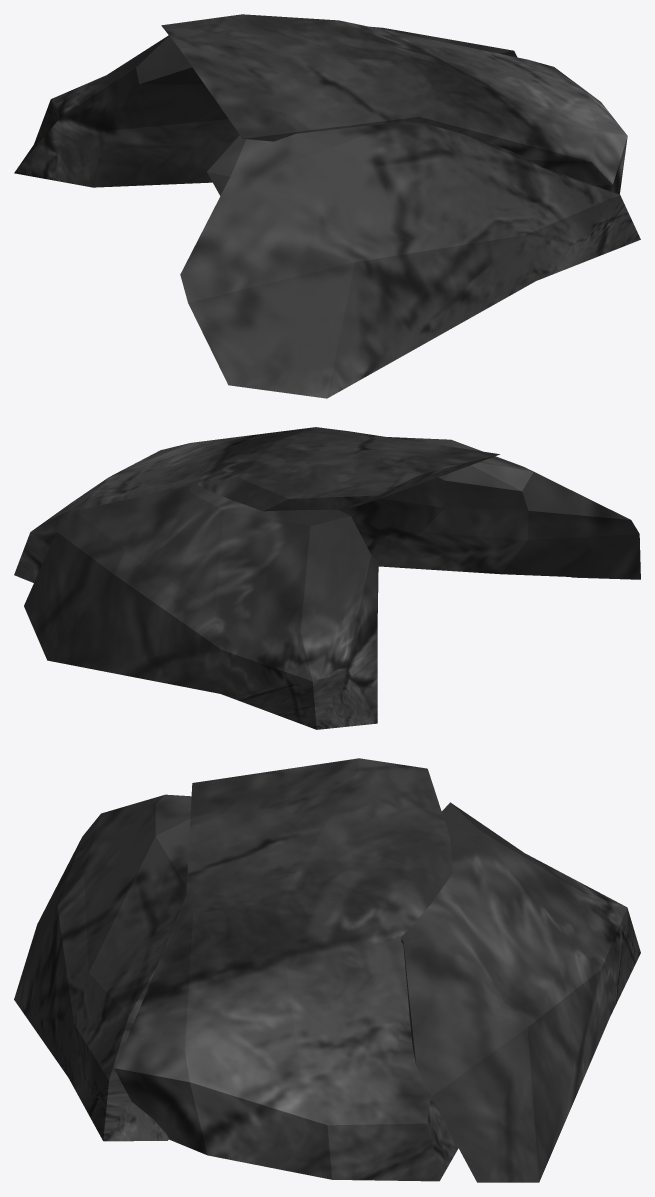
File: den_unused.fbx
The picture shows the model from 3 angles, top to bottom: view 1: azimuth 30°, elevation 25°; view 2: azimuth 150°, elevation 25°; view 3: azimuth 270°, elevation 25°; orthographic projection. The views are drawn at different scales.
Parts seen in each view (by area): view 1: pSphere19; view 2: pSphere19; view 3: pSphere19.
Part boxes in pixels (left/top/right/bottom): pSphere19: left=14, top=14, right=640, bottom=398; pSphere19: left=14, top=427, right=640, bottom=729; pSphere19: left=14, top=758, right=640, bottom=1182.
Bounding box in the file's own units: 77.5 × 31.58 × 72.4.
